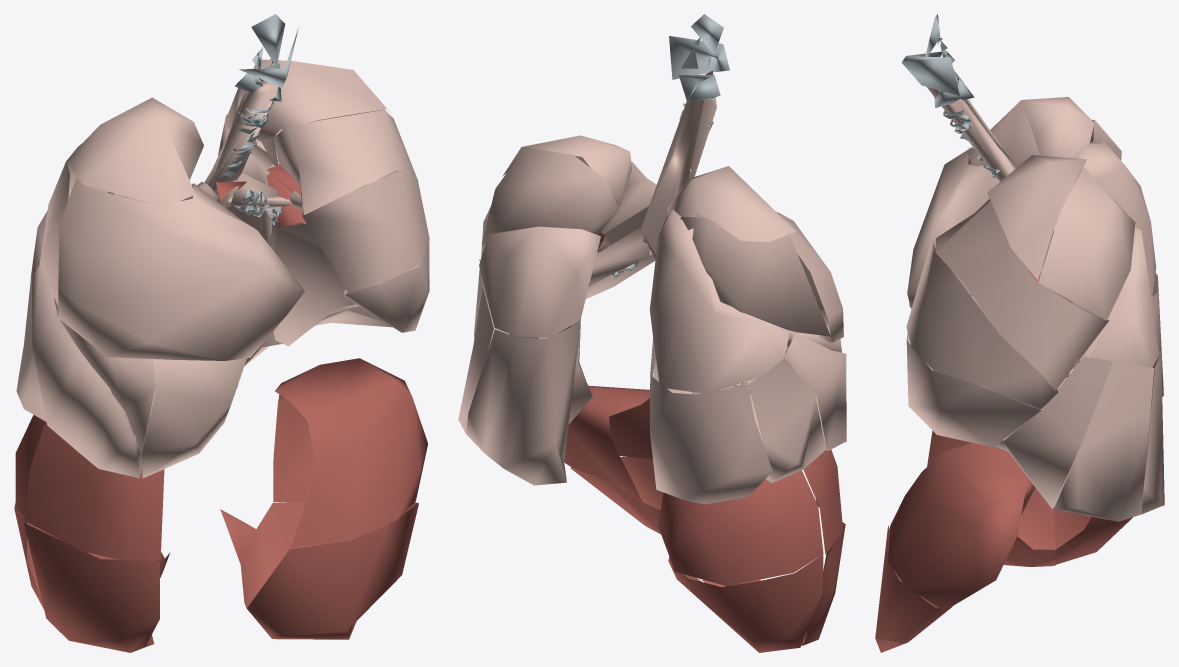
Rendered from adult_female.respiratory.LOD4.glb.
3 views of the same model, side by side, from view 1: azimuth 30°, elevation 25°; view 2: azimuth 150°, elevation 25°; view 3: azimuth 270°, elevation 25° (orthographic). The views are drawn at different scales.
Parts seen in each view (by area): view 1: ADULT.FEMALE.RESPIRATORY.ANTERIOR_BRONCHOPULMONARY_SEGM.R, ADULT.FEMALE.RESPIRATORY.SUPEROMEDIAL_SEGMENT.L, ADULT.FEMALE.RESPIRATORY.ANTEROLATERAL_SEGMENT.L, ADULT.FEMALE.RESPIRATORY.ANTEROSUPERIOR_SEGMENT.R, ADULT.FEMALE.RESPIRATORY.ANTEROINFERIOR_SEGMENT.R, ADULT.FEMALE.RESPIRATORY.ANTERIOR_BASAL_BRONCHOPULMONARY_SEG, ADULT.FEMALE.RESPIRATORY.LINGULA_SUPERIOR_BRONCHOPULMONARY_S, ADULT.FEMALE.RESPIRATORY.APICAL_BRONCHOPULMONARY_SEGMENT.R, ADULT.FEMALE.RESPIRATORY.ANTERIOR_BRONCHOPULMONARY_SEGMENT.L, ADULT.FEMALE.RESPIRATORY.MEDIAL_BRONCHOPULMONARY_SEGMENT.R, ADULT.FEMALE.RESPIRATORY.APICAL_BRONCHOPULMONARY_SEGMENT.L, ADULT.FEMALE.RESPIRATORY.MEDIAL_BASAL_BRONCHOPULMONARY_SEGME (+15 smaller); view 2: ADULT.FEMALE.RESPIRATORY.POSTERIOR_BASAL_BRONCHOPULMONARY_SE (×2), ADULT.FEMALE.RESPIRATORY.POSTERIOR_BRONCHOPULMONARY_SEGMENT. (×2), ADULT.FEMALE.RESPIRATORY.SUPERIOR_BRONCHOPULMONARY_SEGMENT.R, ADULT.FEMALE.RESPIRATORY.POSTEROSUPERIOR_SEGMENT.R, ADULT.FEMALE.RESPIRATORY.SUPERIOR_BRONCHOPULMONARY_SEGMENT.L, ADULT.FEMALE.RESPIRATORY.LATERAL_BASAL_BRONCHOPULMONARY_SEGM (×2), ADULT.FEMALE.RESPIRATORY.POSTEROINFERIOR_SEGMENT.R, ADULT.FEMALE.RESPIRATORY.SUPEROMEDIAL_SEGMENT.L, ADULT.FEMALE.RESPIRATORY.APICAL_BRONCHOPULMONARY_SEGMENT.R, ADULT.FEMALE.RESPIRATORY.TRACHEA, ADULT.FEMALE.RESPIRATORY.ANTERIOR_BASAL_BRONCHOPULMONARY_SEG, ADULT.FEMALE.RESPIRATORY.APICAL_BRONCHOPULMONARY_SEGMENT.L (+11 smaller); view 3: ADULT.FEMALE.RESPIRATORY.SUPEROMEDIAL_SEGMENT.L, ADULT.FEMALE.RESPIRATORY.ANTERIOR_BRONCHOPULMONARY_SEGMENT.L, ADULT.FEMALE.RESPIRATORY.LINGULA_SUPERIOR_BRONCHOPULMONARY_S, ADULT.FEMALE.RESPIRATORY.LATERAL_BASAL_BRONCHOPULMONARY_SEGM, ADULT.FEMALE.RESPIRATORY.POSTERIOR_BRONCHOPULMONARY_SEGMENT. (×2), ADULT.FEMALE.RESPIRATORY.ANTERIOR_BASAL_BRONCHOPULMONARY_SEG, ADULT.FEMALE.RESPIRATORY.LINGULA_INFERIOR_BRONCHOPULMONARY_S, ADULT.FEMALE.RESPIRATORY.APICAL_BRONCHOPULMONARY_SEGMENT.L, ADULT.FEMALE.RESPIRATORY.APICAL_BRONCHOPULMONARY_SEGMENT.R, ADULT.FEMALE.RESPIRATORY.SUPERIOR_BRONCHOPULMONARY_SEGMENT.L, ADULT.FEMALE.RESPIRATORY.ANTERIOR_BRONCHOPULMONARY_SEGM.R, ADULT.FEMALE.RESPIRATORY.ANTEROLATERAL_SEGMENT.L (+9 smaller).
Part boxes in pixels (box(x1,y1,x2,y2)): ADULT.FEMALE.RESPIRATORY.ANTERIOR_BRONCHOPULMONARY_SEGM.R: box(58, 177, 304, 360); ADULT.FEMALE.RESPIRATORY.SUPEROMEDIAL_SEGMENT.L: box(273, 358, 427, 548); ADULT.FEMALE.RESPIRATORY.ANTEROLATERAL_SEGMENT.L: box(220, 502, 418, 639); ADULT.FEMALE.RESPIRATORY.ANTEROSUPERIOR_SEGMENT.R: box(25, 421, 164, 560); ADULT.FEMALE.RESPIRATORY.ANTEROINFERIOR_SEGMENT.R: box(24, 523, 169, 652); ADULT.FEMALE.RESPIRATORY.ANTERIOR_BASAL_BRONCHOPULMONARY_SEG: box(32, 264, 154, 478); ADULT.FEMALE.RESPIRATORY.LINGULA_SUPERIOR_BRONCHOPULMONARY_S: box(302, 169, 429, 293); ADULT.FEMALE.RESPIRATORY.APICAL_BRONCHOPULMONARY_SEGMENT.R: box(70, 97, 203, 207); ADULT.FEMALE.RESPIRATORY.ANTERIOR_BRONCHOPULMONARY_SEGMENT.L: box(274, 110, 418, 214); ADULT.FEMALE.RESPIRATORY.MEDIAL_BRONCHOPULMONARY_SEGMENT.R: box(141, 357, 246, 478); ADULT.FEMALE.RESPIRATORY.APICAL_BRONCHOPULMONARY_SEGMENT.L: box(232, 59, 391, 165); ADULT.FEMALE.RESPIRATORY.MEDIAL_BASAL_BRONCHOPULMONARY_SEGME: box(270, 179, 377, 346); ADULT.FEMALE.RESPIRATORY.POSTERIOR_BASAL_BRONCHOPULMONARY_SE (×2): box(466, 319, 772, 504); ADULT.FEMALE.RESPIRATORY.POSTERIOR_BRONCHOPULMONARY_SEGMENT. (×2): box(481, 147, 830, 336); ADULT.FEMALE.RESPIRATORY.SUPERIOR_BRONCHOPULMONARY_SEGMENT.R: box(649, 209, 789, 393); ADULT.FEMALE.RESPIRATORY.POSTEROSUPERIOR_SEGMENT.R: box(658, 470, 823, 586); ADULT.FEMALE.RESPIRATORY.SUPERIOR_BRONCHOPULMONARY_SEGMENT.L: box(479, 226, 600, 337); ADULT.FEMALE.RESPIRATORY.LATERAL_BASAL_BRONCHOPULMONARY_SEGM (×2): box(458, 287, 825, 483); ADULT.FEMALE.RESPIRATORY.POSTEROINFERIOR_SEGMENT.R: box(668, 554, 823, 652); ADULT.FEMALE.RESPIRATORY.SUPEROMEDIAL_SEGMENT.L: box(564, 385, 652, 504); ADULT.FEMALE.RESPIRATORY.APICAL_BRONCHOPULMONARY_SEGMENT.R: box(667, 166, 795, 242); ADULT.FEMALE.RESPIRATORY.TRACHEA: box(641, 70, 716, 260); ADULT.FEMALE.RESPIRATORY.ANTERIOR_BASAL_BRONCHOPULMONARY_SEG: box(723, 331, 846, 451); ADULT.FEMALE.RESPIRATORY.APICAL_BRONCHOPULMONARY_SEGMENT.L: box(502, 135, 631, 206); ADULT.FEMALE.RESPIRATORY.SUPEROMEDIAL_SEGMENT.L: box(888, 443, 1035, 610); ADULT.FEMALE.RESPIRATORY.ANTERIOR_BRONCHOPULMONARY_SEGMENT.L: box(935, 199, 1109, 390); ADULT.FEMALE.RESPIRATORY.LINGULA_SUPERIOR_BRONCHOPULMONARY_S: box(906, 235, 1058, 409); ADULT.FEMALE.RESPIRATORY.LATERAL_BASAL_BRONCHOPULMONARY_SEGM: box(1054, 361, 1154, 521); ADULT.FEMALE.RESPIRATORY.POSTERIOR_BRONCHOPULMONARY_SEGMENT. (×2): box(1038, 119, 1135, 320); ADULT.FEMALE.RESPIRATORY.ANTERIOR_BASAL_BRONCHOPULMONARY_SEG: box(995, 356, 1113, 508); ADULT.FEMALE.RESPIRATORY.LINGULA_INFERIOR_BRONCHOPULMONARY_S: box(906, 316, 1041, 447); ADULT.FEMALE.RESPIRATORY.APICAL_BRONCHOPULMONARY_SEGMENT.L: box(987, 155, 1086, 280); ADULT.FEMALE.RESPIRATORY.APICAL_BRONCHOPULMONARY_SEGMENT.R: box(967, 97, 1094, 167); ADULT.FEMALE.RESPIRATORY.SUPERIOR_BRONCHOPULMONARY_SEGMENT.L: box(1081, 226, 1159, 367); ADULT.FEMALE.RESPIRATORY.ANTERIOR_BRONCHOPULMONARY_SEGM.R: box(907, 148, 998, 308); ADULT.FEMALE.RESPIRATORY.ANTEROLATERAL_SEGMENT.L: box(875, 525, 952, 652).
Size of the model in its own units: 0.2586 by 0.3983 by 0.1698.
